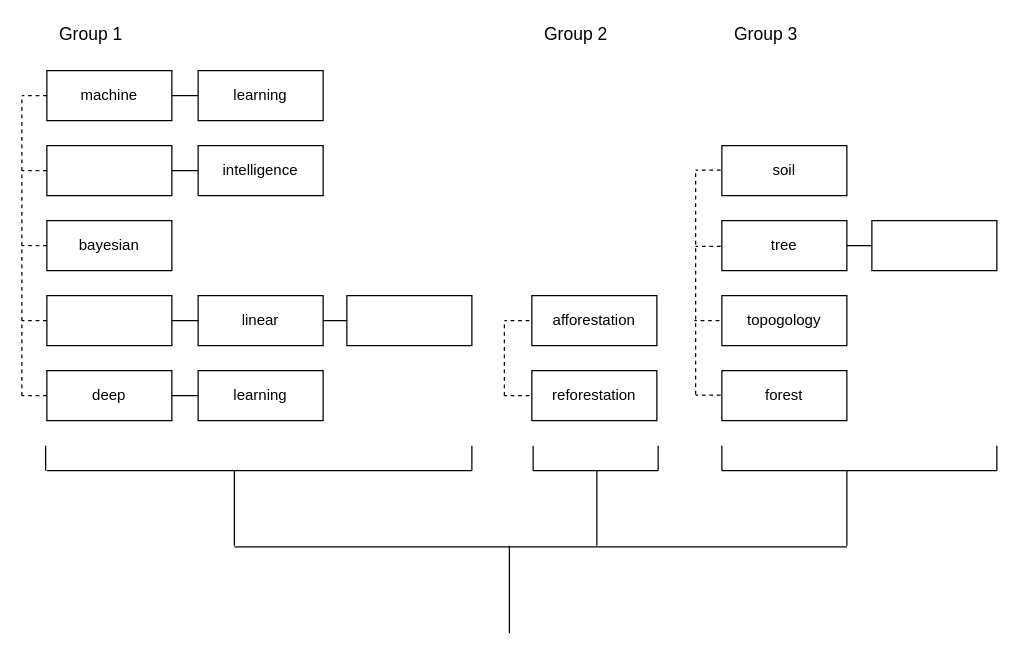
Image size: 1020x656. Some labels were removed from this diagram. The shapes that lost their labels are listed below. From the top down, each one's box as (x1, y1, x2, y2) in pixels, then its label:
(46, 144, 172, 196): artifcial
(871, 219, 997, 271): cover
(46, 294, 172, 346): generalized
(346, 294, 472, 346): models
